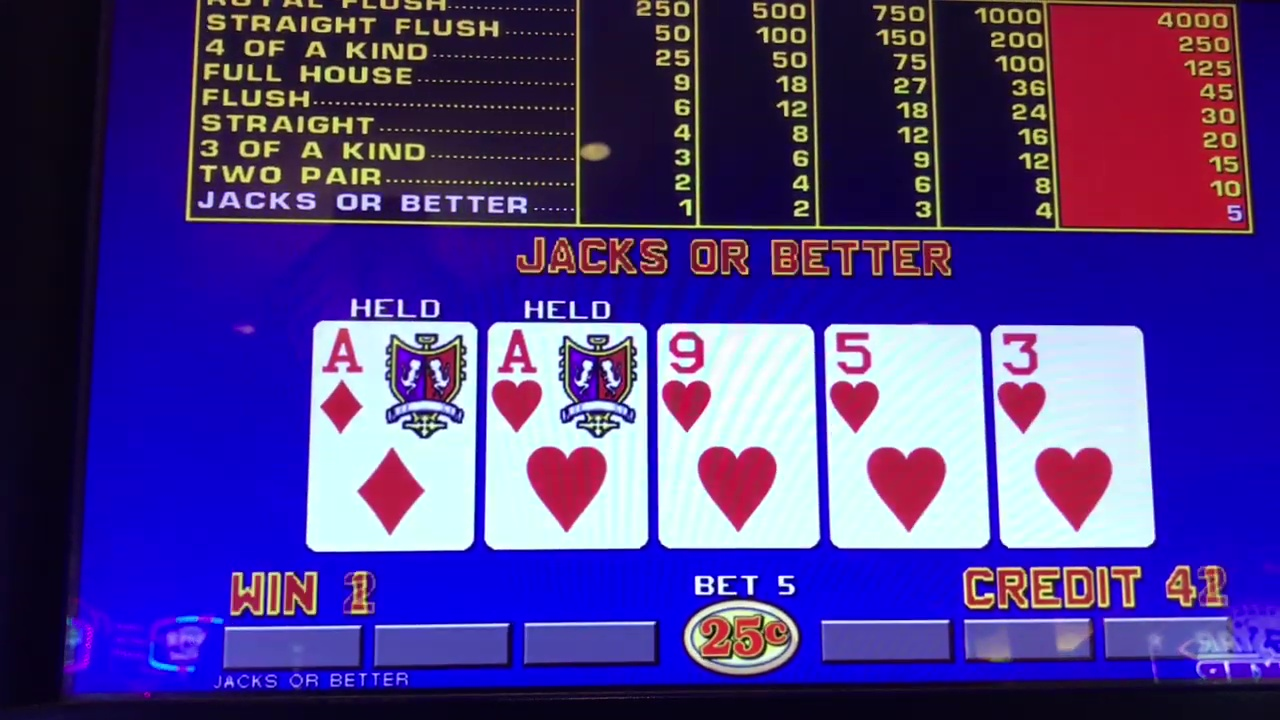DA: (313, 321, 468, 433)
H3: (994, 325, 1148, 434)
H5: (830, 328, 985, 436)
H9: (661, 325, 814, 435)
HA: (492, 323, 647, 435)
